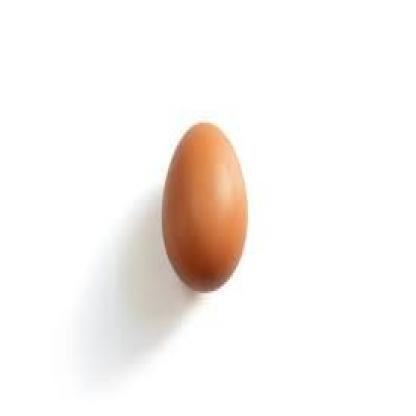egg: (162, 120, 252, 296)
